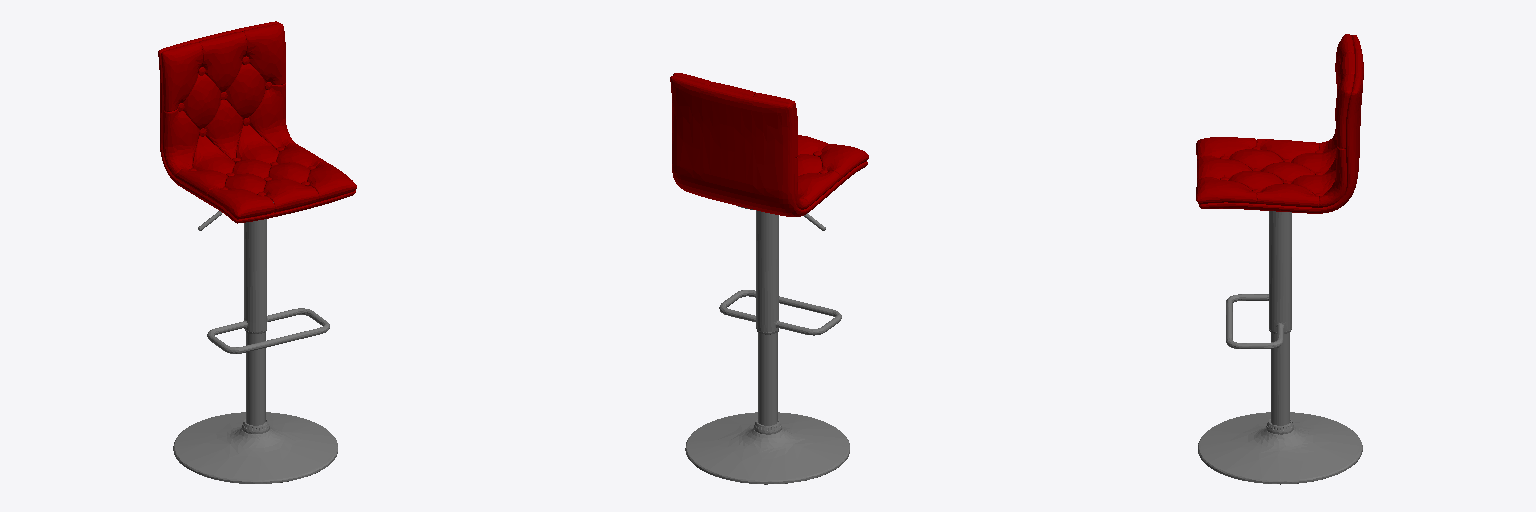
The model's file is 60289100_510686_FlashFurnitureTuftedViny_000.obj.
3 renders of one model, left to right at view 1: azimuth 30°, elevation 25°; view 2: azimuth 150°, elevation 25°; view 3: azimuth 270°, elevation 25°, orthographic.
Parts seen in each view (by area): view 1: stool_LOD001; view 2: stool_LOD001; view 3: stool_LOD001.
Part boxes in pixels (x1,y1,x2,y2): stool_LOD001: (158,21,356,483); stool_LOD001: (670,73,868,484); stool_LOD001: (1196,34,1363,484).
Size of the model in its own units: 0.3558 by 0.9225 by 0.3614.